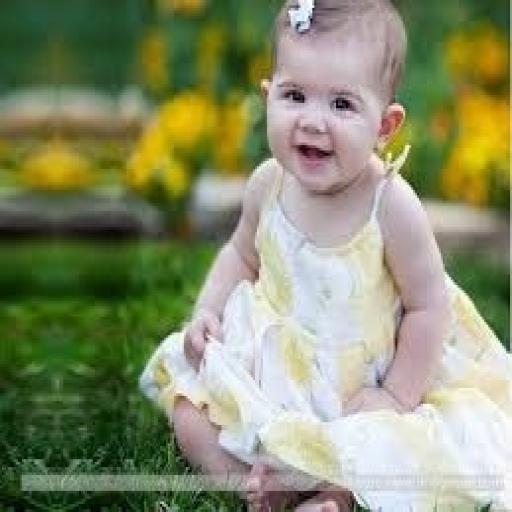laughing: (134, 0, 507, 509)
